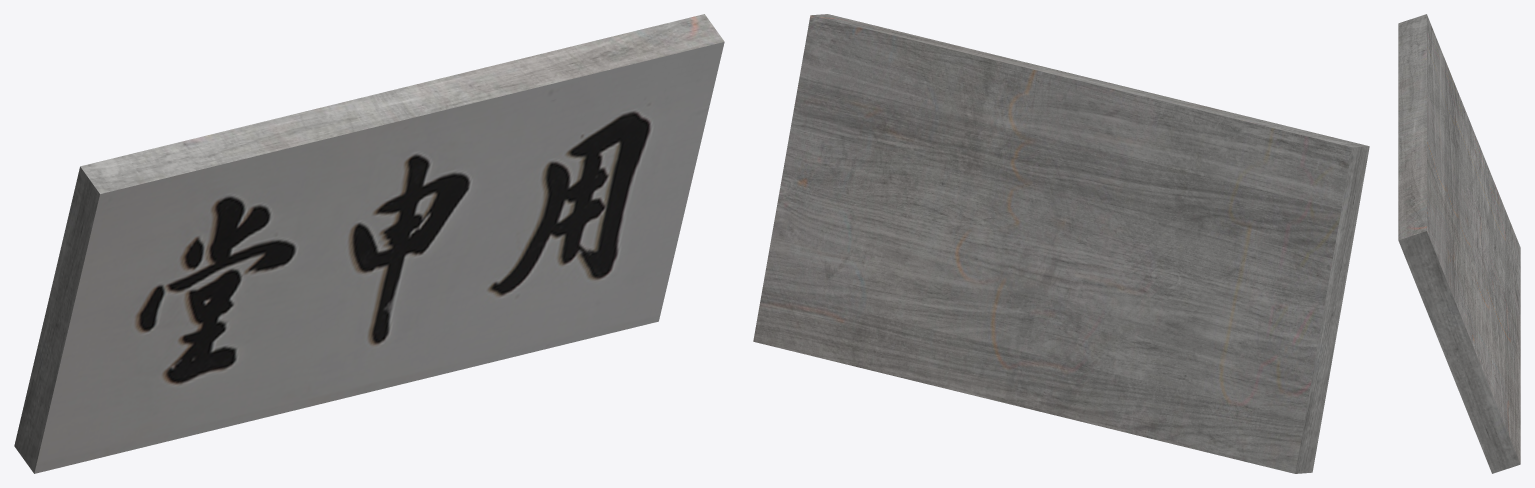
File: SM_SJJ_HG_Stela01A.fbx
The picture shows the model from 3 angles, left to right: view 1: azimuth 30°, elevation 25°; view 2: azimuth 150°, elevation 25°; view 3: azimuth 270°, elevation 25°; orthographic projection. The views are drawn at different scales.
Visible parts, largest first — view 1: SM_SJJ_HG_Stela01A; view 2: SM_SJJ_HG_Stela01A; view 3: SM_SJJ_HG_Stela01A.
Boxes of the visible parts, x1=… form: SM_SJJ_HG_Stela01A: x1=14, y1=14, x2=724, y2=473; SM_SJJ_HG_Stela01A: x1=753, y1=14, x2=1369, y2=473; SM_SJJ_HG_Stela01A: x1=1398, y1=14, x2=1520, y2=473.
Size of the model in its own units: 57.08 by 13.59 by 29.79.
1 material, 1 textured.
